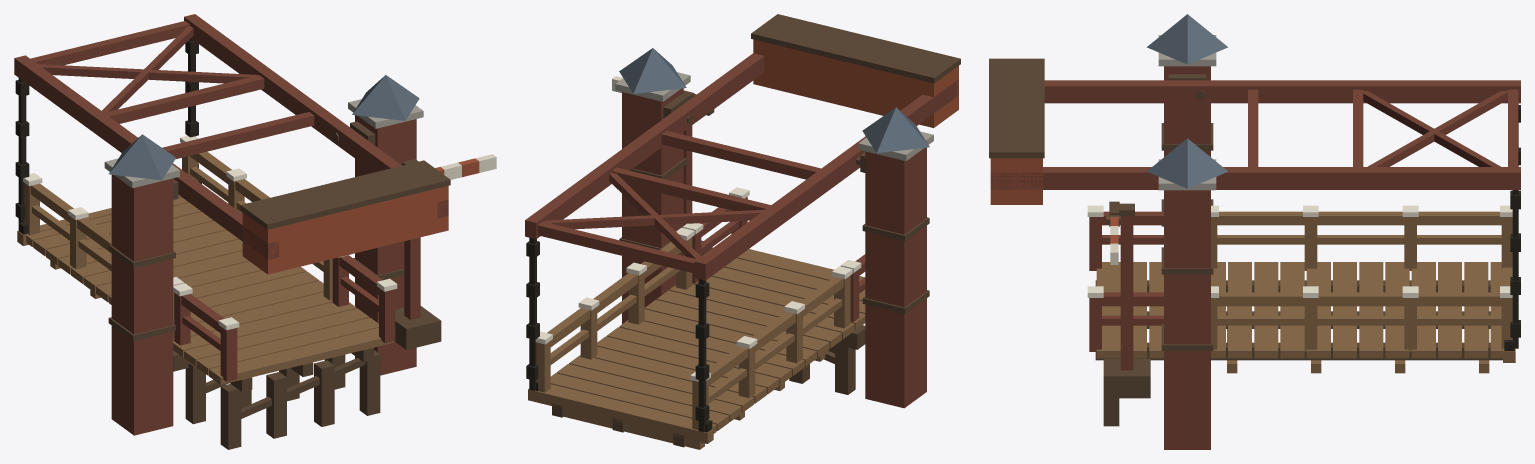
File: drawbridge-lift.glb
3 views of the same model, side by side, from view 1: azimuth 30°, elevation 25°; view 2: azimuth 150°, elevation 25°; view 3: azimuth 270°, elevation 25° (orthographic). The views are drawn at different scales.
Parts seen in each view (by area): view 1: frame, beam, leaf, chains, signal; view 2: frame, leaf, beam, chains; view 3: leaf, beam, frame, chains, signal.
Part boxes in pixels (x1,y1,x2,y2): frame: (104,75,441,449); beam: (14,14,450,274); leaf: (17,135,332,340); chains: (15,38,198,222); signal: (435,154,496,179); frame: (615,48,933,408); leaf: (528,227,854,449); beam: (525,14,960,280); chains: (526,237,709,431); leaf: (1211,205,1515,373); beam: (989,58,1520,204); frame: (1087,14,1227,449); chains: (1510,103,1520,348); signal: (1106,201,1120,264).
Size of the model in its own units: 8.08 by 6.54 by 10.13.
Materials: 1 (1 with a texture image).
